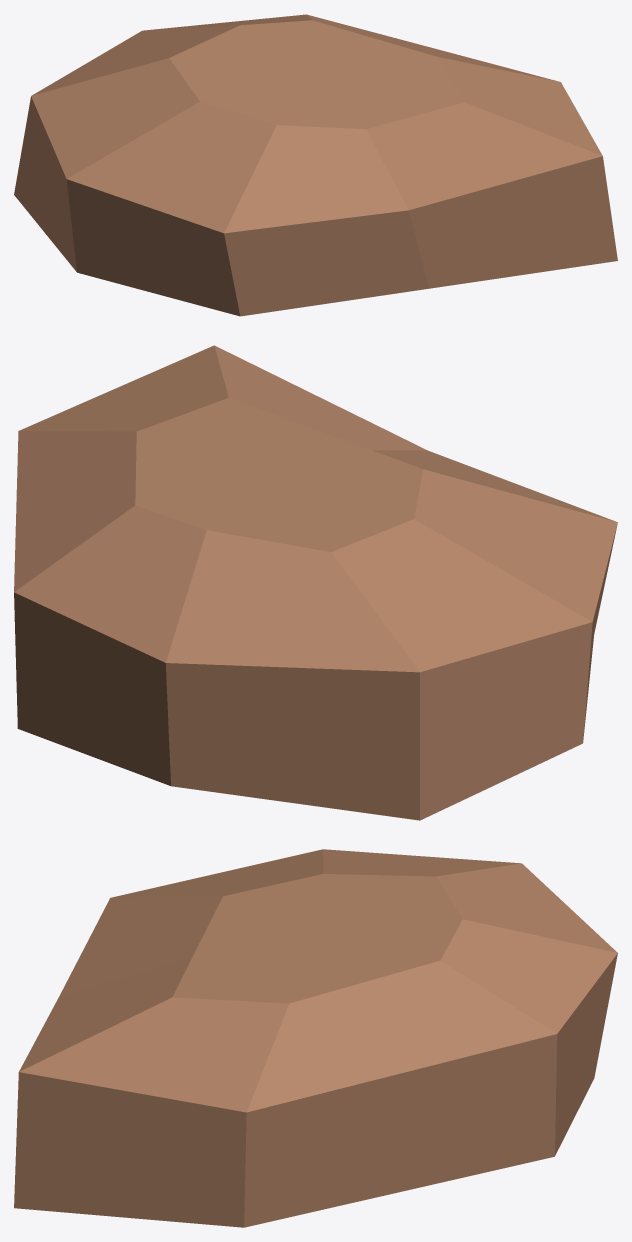
The model's file is rock_2.glb.
3 renders of one model, top to bottom at view 1: azimuth 30°, elevation 25°; view 2: azimuth 150°, elevation 25°; view 3: azimuth 270°, elevation 25°, orthographic. The views are drawn at different scales.
Visible parts, largest first — view 1: rock_2; view 2: rock_2; view 3: rock_2.
Part boxes in pixels (x1,y1,x2,y2): rock_2: (14, 14, 617, 316); rock_2: (14, 345, 617, 820); rock_2: (14, 849, 617, 1227).
Size of the model in its own units: 0.3284 by 0.1014 by 0.308.
1 material, 1 textured.
